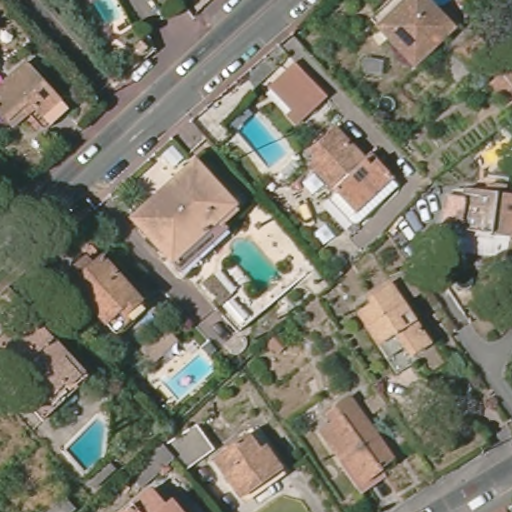pool: (228, 236, 280, 289), (238, 116, 290, 167), (65, 416, 108, 473), (163, 353, 214, 401), (91, 1, 127, 29)
